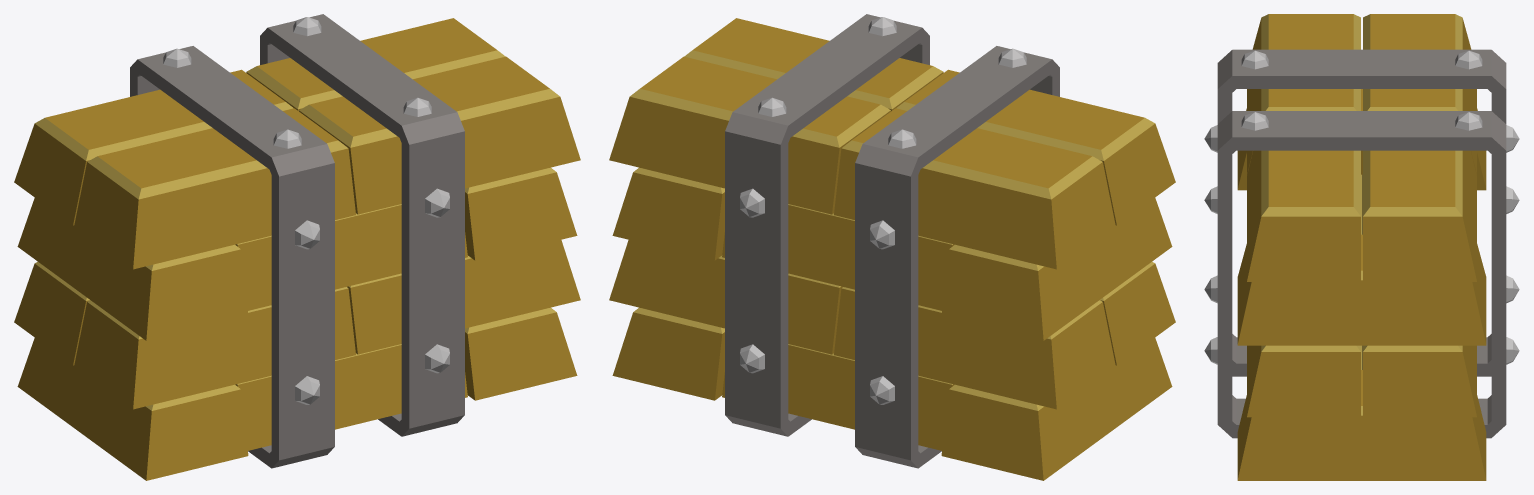
Rendered from strapped-bullion-bundle-26de2d.glb.
The picture shows the model from 3 angles, left to right: view 1: azimuth 30°, elevation 25°; view 2: azimuth 150°, elevation 25°; view 3: azimuth 270°, elevation 25°; orthographic projection. The views are drawn at different scales.
Visible parts, largest first — view 1: bundle; view 2: bundle; view 3: bundle.
Part boxes in pixels (bbox=[...]): bundle: bbox=[14, 14, 580, 480]; bundle: bbox=[609, 14, 1175, 480]; bundle: bbox=[1204, 14, 1519, 480].
Bounding box in the file's own units: 0.482 × 0.333 × 0.304.
